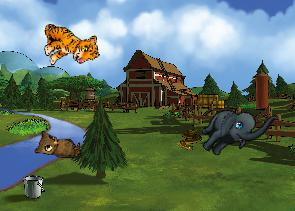elephant: (193, 85, 279, 174)
owl: (34, 129, 81, 158)
tiger: (39, 16, 100, 70)
